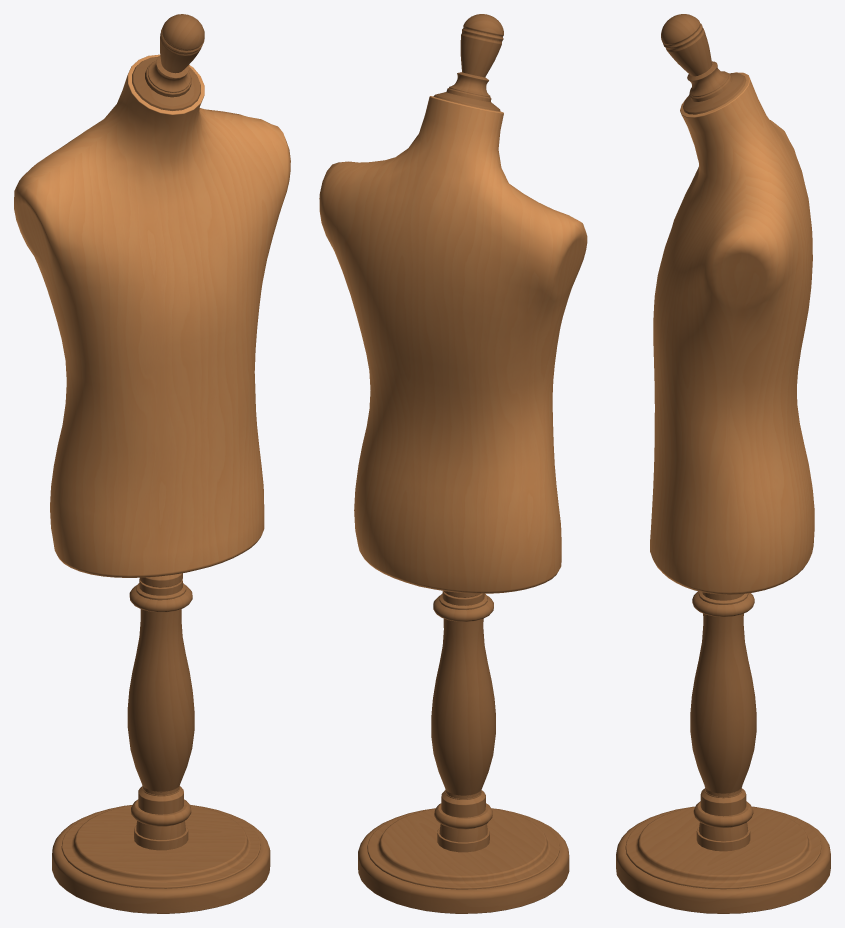
The model's file is Maniqui_Hoddie.glb.
3 views of the same model, side by side, from view 1: azimuth 30°, elevation 25°; view 2: azimuth 150°, elevation 25°; view 3: azimuth 270°, elevation 25° (orthographic). The views are drawn at different scales.
Parts seen in each view (by area): view 1: maniqui_Modeling_v0003:base_GEO; view 2: maniqui_Modeling_v0003:base_GEO; view 3: maniqui_Modeling_v0003:base_GEO.
Part boxes in pixels (x1,y1,x2,y2): maniqui_Modeling_v0003:base_GEO: [14, 14, 290, 913]; maniqui_Modeling_v0003:base_GEO: [319, 14, 587, 913]; maniqui_Modeling_v0003:base_GEO: [616, 14, 830, 913].
Bounding box in the file's own units: 0.4008 × 1.29 × 0.2944.
2 materials, 2 textured.
